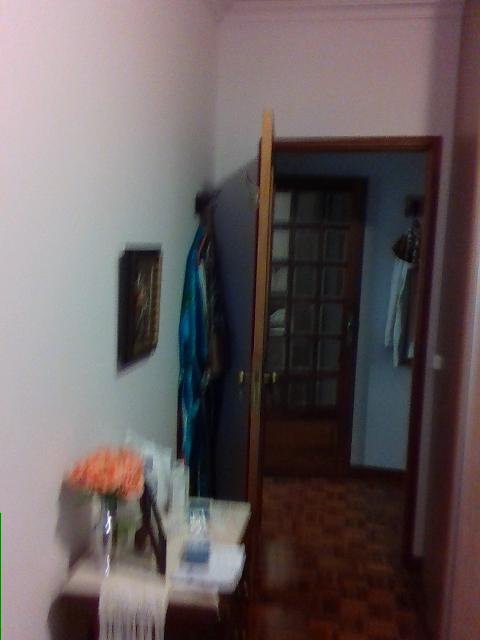door: (264, 173, 363, 473), (237, 107, 281, 599)
